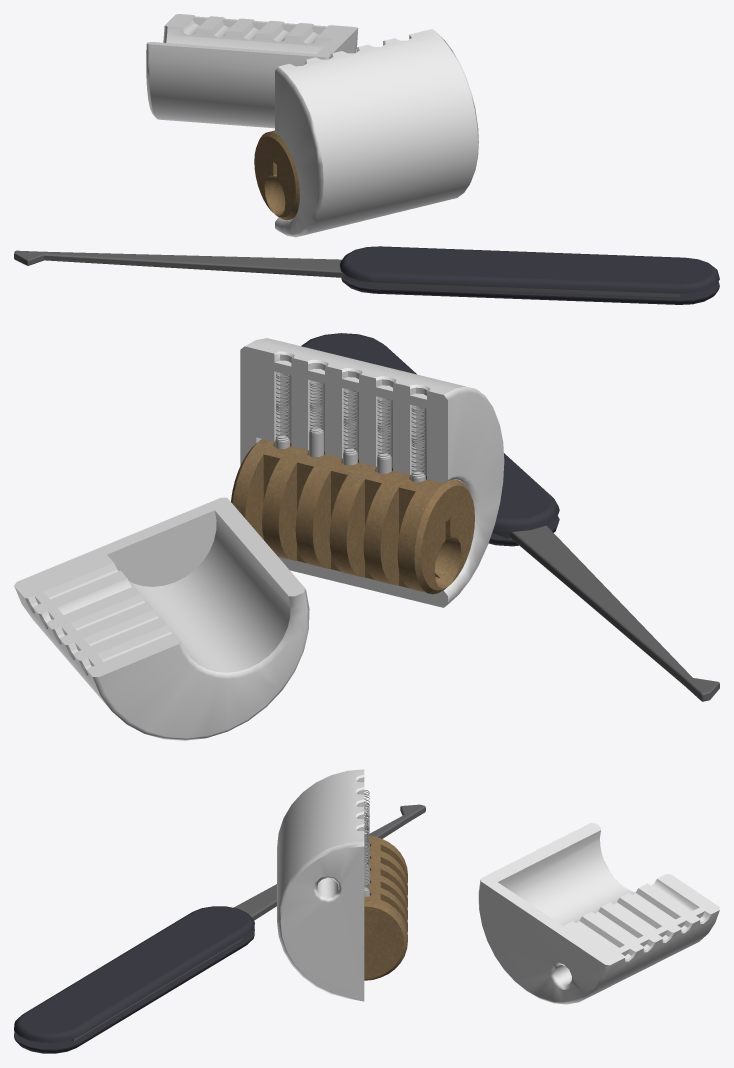
The model's file is 3december_2020_-_cylinder_lock.glb.
3 views of the same model, one above another, from view 1: azimuth 30°, elevation 25°; view 2: azimuth 150°, elevation 25°; view 3: azimuth 270°, elevation 25° (orthographic). The views are drawn at different scales.
Parts seen in each view (by area): view 1: Acrylic-material (×2), Plastic_Tool-material, Steel_Tool-material, Brass-material; view 2: Acrylic-material (×2), Brass-material, Steel_Tool-material, Plastic_Tool-material, Spring-material (×3); view 3: Acrylic-material (×2), Plastic_Tool-material, Brass-material, Steel_Tool-material.
Part boxes in pixels (bbox=[...]): Acrylic-material (×2): bbox=[146, 14, 478, 237]; Plastic_Tool-material: bbox=[339, 246, 719, 304]; Steel_Tool-material: bbox=[14, 250, 680, 297]; Brass-material: bbox=[254, 130, 299, 220]; Acrylic-material (×2): bbox=[14, 338, 504, 740]; Brass-material: bbox=[231, 439, 474, 594]; Steel_Tool-material: bbox=[492, 525, 719, 701]; Plastic_Tool-material: bbox=[301, 333, 559, 546]; Spring-material (×3): bbox=[276, 372, 425, 478]; Acrylic-material (×2): bbox=[277, 769, 719, 1004]; Plastic_Tool-material: bbox=[14, 906, 254, 1053]; Brass-material: bbox=[364, 835, 407, 980]; Steel_Tool-material: bbox=[70, 804, 425, 1041].
Bounding box in the file's own units: 0.0776 × 0.024 × 0.0969.
Materials: 6 (2 with a texture image).
